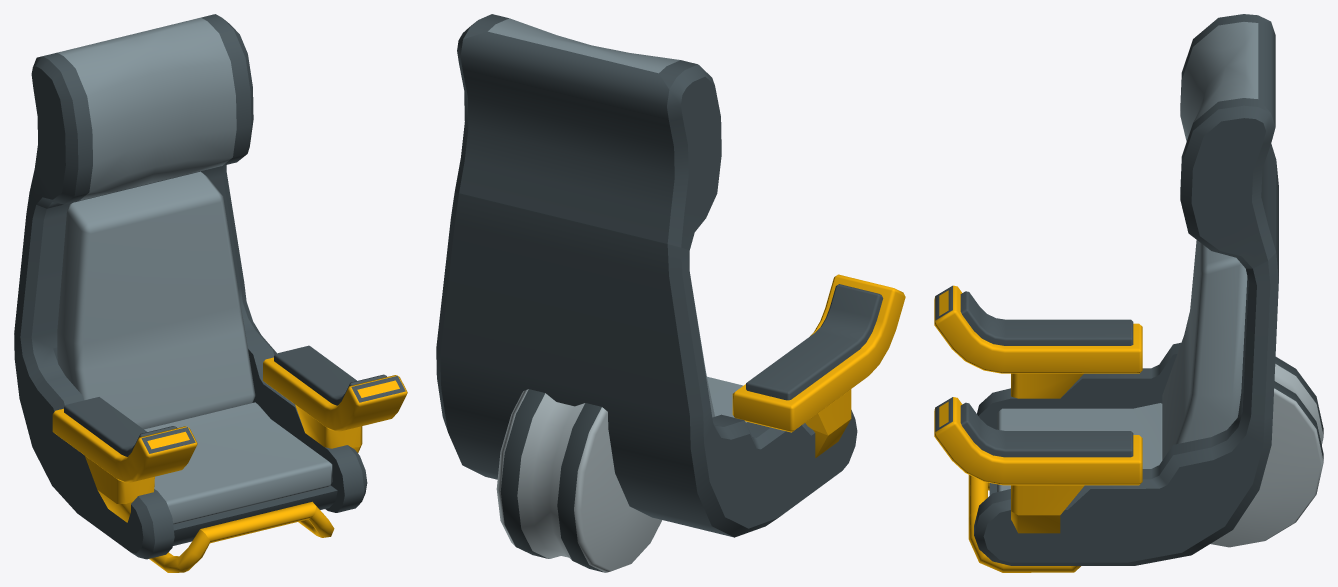
Rendered from Armchair_014_Part_02.fbx.
3 views of the same model, side by side, from view 1: azimuth 30°, elevation 25°; view 2: azimuth 150°, elevation 25°; view 3: azimuth 270°, elevation 25° (orthographic). The views are drawn at different scales.
Visible parts, largest first — view 1: Armchair_014_Part_02; view 2: Armchair_014_Part_02; view 3: Armchair_014_Part_02.
Part boxes in pixels (x1=…): Armchair_014_Part_02: x1=14, y1=14, x2=407, y2=572; Armchair_014_Part_02: x1=436, y1=14, x2=905, y2=572; Armchair_014_Part_02: x1=934, y1=14, x2=1323, y2=572.
Size of the model in its own units: 80.75 by 95.65 by 128.
